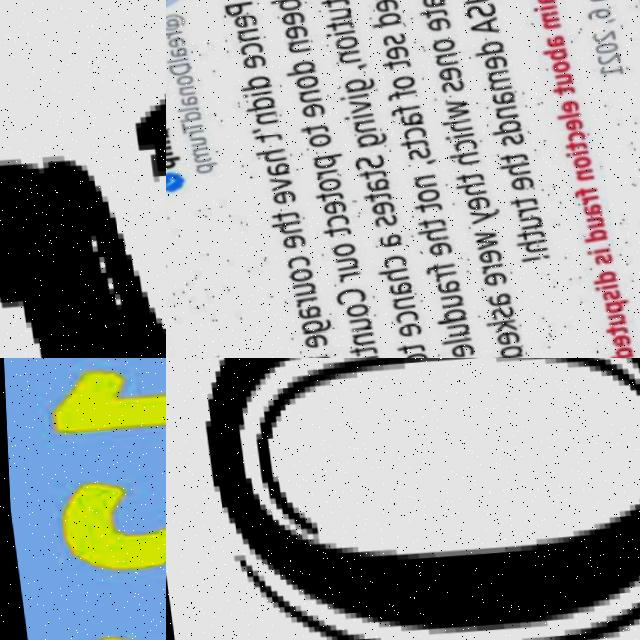0: (168, 358, 640, 640), (591, 37, 617, 52)
1: (44, 358, 166, 436), (595, 60, 622, 75)
2: (52, 457, 166, 578), (592, 49, 618, 64), (590, 26, 614, 40)
6: (583, 3, 610, 19)
S: (0, 0, 166, 358)
